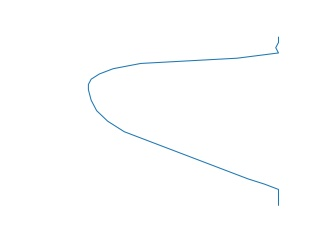beach: (78, 39, 287, 207)
